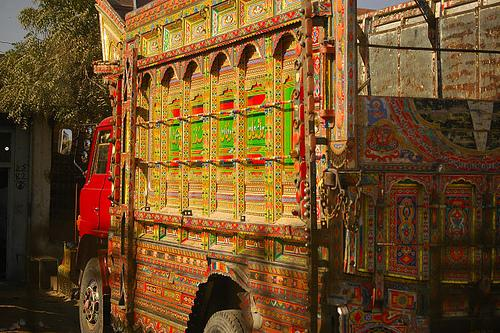truck: (57, 0, 500, 333)
